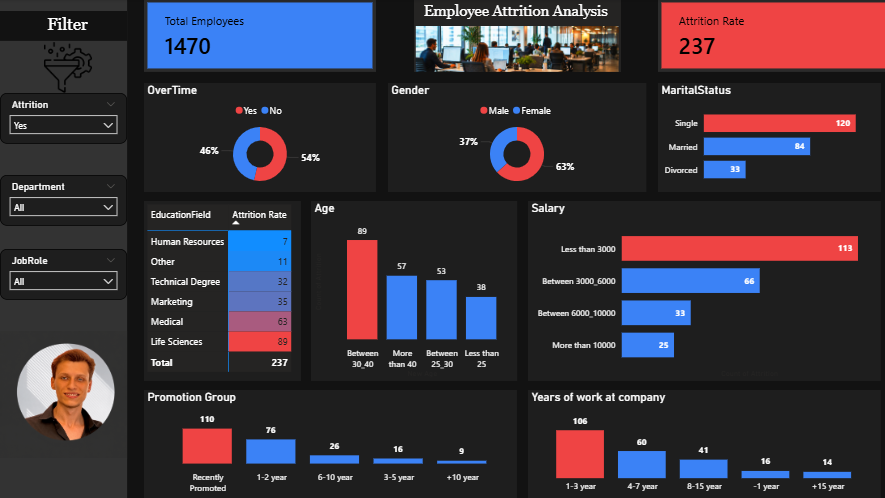

The dashboard page shown, as its layout file describes it:
{"tool":"powerbi","page":{"name":"Page 1","canvas":[1280,720],"ordinal":0},"visuals":[{"type":"shape","box":[0,0,183.1,720.6],"z":0},{"type":"slicer","fields":{"Values":["WA_Fn-UseC_-HR-Employee-Attrition.Attrition"]},"box":[0,135.4,182.9,73.4],"z":1000},{"type":"slicer","fields":{"Values":["WA_Fn-UseC_-HR-Employee-Attrition.Department"]},"box":[0,253.4,182.9,73.4],"z":2000},{"type":"slicer","fields":{"Values":["WA_Fn-UseC_-HR-Employee-Attrition.JobRole"]},"box":[0,360,182.9,73.4],"z":3000},{"type":"cardVisual","fields":{"Data":["WA_Fn-UseC_-HR-Employee-Attrition.Total Employees"]},"box":[207.4,0,334.1,105.1],"z":4000},{"type":"cardVisual","fields":{"Data":["WA_Fn-UseC_-HR-Employee-Attrition.Total Attrition"]},"box":[947.5,0,332.6,105.1],"z":5000},{"type":"donutChart","title":" Gender","fields":{"Category":["WA_Fn-UseC_-HR-Employee-Attrition.Gender"],"Y":["CountNonNull(WA_Fn-UseC_-HR-Employee-Attrition.Attrition)"]},"box":[558.7,121,371.5,157],"z":6000},{"type":"pivotTable","fields":{"Rows":["WA_Fn-UseC_-HR-Employee-Attrition.EducationField"],"Values":["WA_Fn-UseC_-HR-Employee-Attrition.Total Attrition"]},"box":[207.4,290.9,226.1,259.2],"z":7000},{"type":"clusteredBarChart","title":" MaritalStatus","fields":{"Category":["WA_Fn-UseC_-HR-Employee-Attrition.MaritalStatus"],"Y":["CountNonNull(WA_Fn-UseC_-HR-Employee-Attrition.Attrition)"]},"box":[947.5,121,321.1,157],"z":8000},{"type":"clusteredColumnChart","title":" Age","fields":{"Category":["WA_Fn-UseC_-HR-Employee-Attrition.New Age"],"Y":["CountNonNull(WA_Fn-UseC_-HR-Employee-Attrition.Attrition)"]},"box":[447.8,290.9,296.6,259.2],"z":9000},{"type":"clusteredBarChart","title":" Salary","fields":{"Category":["WA_Fn-UseC_-HR-Employee-Attrition.Salary"],"Y":["CountNonNull(WA_Fn-UseC_-HR-Employee-Attrition.Attrition)"]},"box":[760.3,290.9,508.3,259.2],"z":10000},{"type":"clusteredColumnChart","title":" Promotion Group","fields":{"Category":["WA_Fn-UseC_-HR-Employee-Attrition.Promotion Group"],"Y":["CountNonNull(WA_Fn-UseC_-HR-Employee-Attrition.Attrition)"]},"box":[207.4,563,537.1,157],"z":11000},{"type":"clusteredColumnChart","title":" Years of work at company","fields":{"Category":["WA_Fn-UseC_-HR-Employee-Attrition.Years of work atcompany"],"Y":["CountNonNull(WA_Fn-UseC_-HR-Employee-Attrition.Attrition)"]},"box":[760.3,563,508.3,157],"z":12000},{"type":"donutChart","title":"OverTime","fields":{"Category":["WA_Fn-UseC_-HR-Employee-Attrition.OverTime"],"Y":["CountNonNull(WA_Fn-UseC_-HR-Employee-Attrition.Attrition)"]},"box":[207.4,121,334.1,157],"z":13000},{"type":"shape","box":[0,17.3,182.9,43],"z":14000},{"type":"textbox","box":[11.5,17.3,171.4,43.2],"z":15000},{"type":"shape","box":[596.2,0,298.1,105.1],"z":16000},{"type":"image","box":[558.7,38.9,371.5,66.2],"z":17000},{"type":"textbox","box":[596.2,0,298.1,38.9],"z":18000},{"type":"image","box":[0,419,182.9,301],"z":19000},{"type":"image","box":[49,61.9,97.9,73.4],"z":20000}]}

Visuals, with their boxes in screenshot pixels (x1, y1, x2, y2), scaled from the page's 1280x720 canvas onto the 885x498 screenshot:
shape: 0, 0, 127, 497
slicer - WA_Fn-UseC_-HR-Employee-Attrition.Attrition: 0, 94, 126, 144
slicer - WA_Fn-UseC_-HR-Employee-Attrition.Department: 0, 175, 126, 226
slicer - WA_Fn-UseC_-HR-Employee-Attrition.JobRole: 0, 249, 126, 300
cardVisual - WA_Fn-UseC_-HR-Employee-Attrition.Total Employees: 143, 0, 374, 73
cardVisual - WA_Fn-UseC_-HR-Employee-Attrition.Total Attrition: 655, 0, 884, 73
" Gender" donutChart: 386, 84, 643, 192
pivotTable - WA_Fn-UseC_-HR-Employee-Attrition.EducationField x WA_Fn-UseC_-HR-Employee-Attrition.Total Attrition: 143, 201, 300, 380
" MaritalStatus" clusteredBarChart: 655, 84, 877, 192
" Age" clusteredColumnChart: 310, 201, 515, 380
" Salary" clusteredBarChart: 526, 201, 877, 380
" Promotion Group" clusteredColumnChart: 143, 389, 515, 497
" Years of work at company" clusteredColumnChart: 526, 389, 877, 497
"OverTime" donutChart: 143, 84, 374, 192
shape: 0, 12, 126, 42
textbox: 8, 12, 126, 42
shape: 412, 0, 618, 73
image: 386, 27, 643, 73
textbox: 412, 0, 618, 27
image: 0, 290, 126, 497
image: 34, 43, 102, 94
